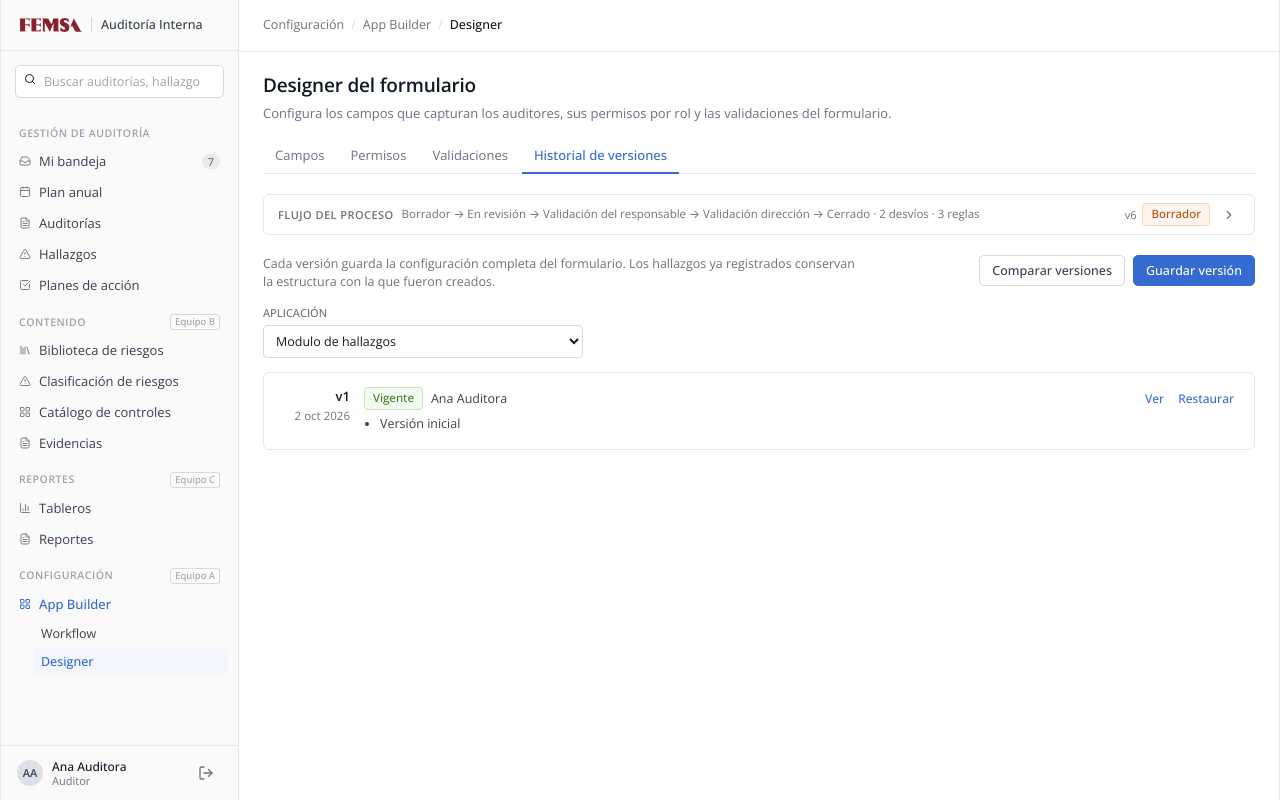
Test: Historial de versiones (US11) › guarda la configuración actual como un borrador nuevo
The width and height of the screenshot is (1280, 800).
Expected: the text "v1" reads "Vigente", [373, 390, 414, 405]
Click the button "Guardar versión" at (1194, 271), box [1133, 255, 1255, 286]
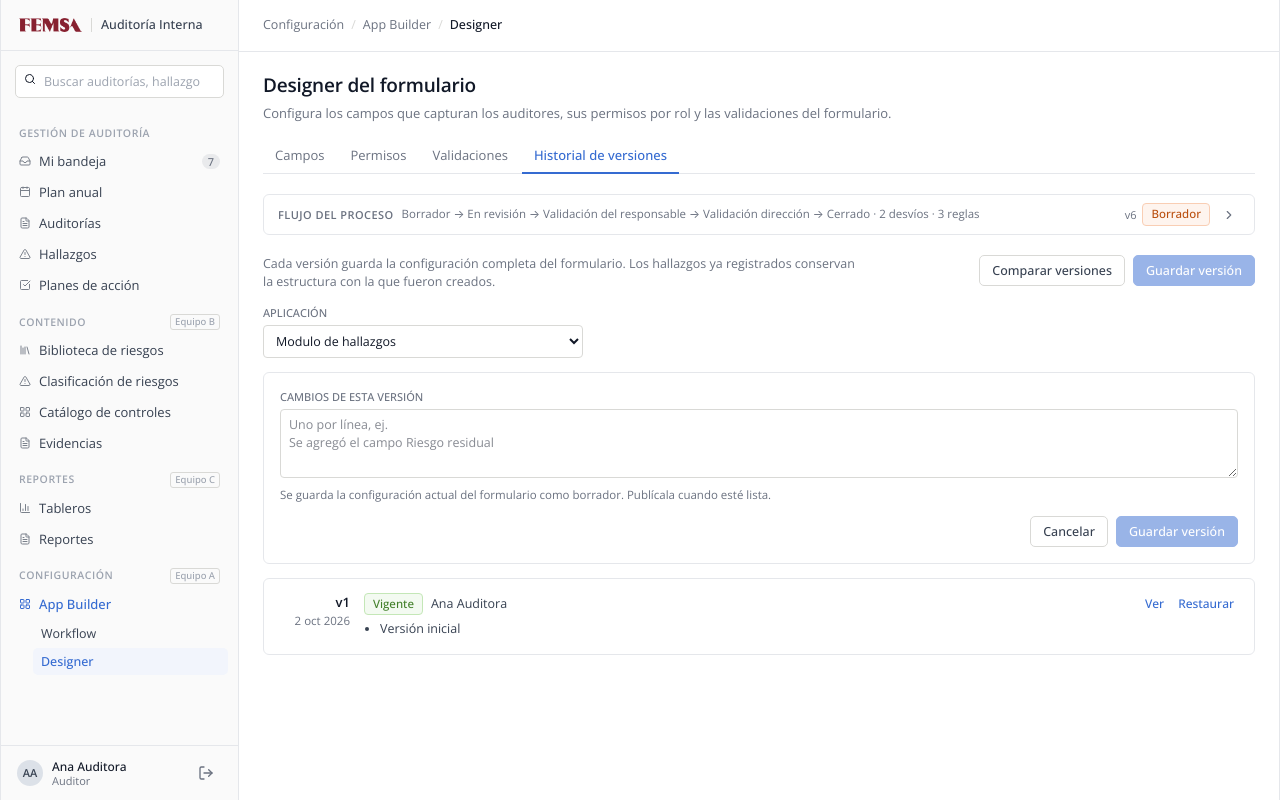
Type "Se agregó Titulo" into the text box labelled "Cambios de esta versión" at (759, 443), box [280, 409, 1238, 477]
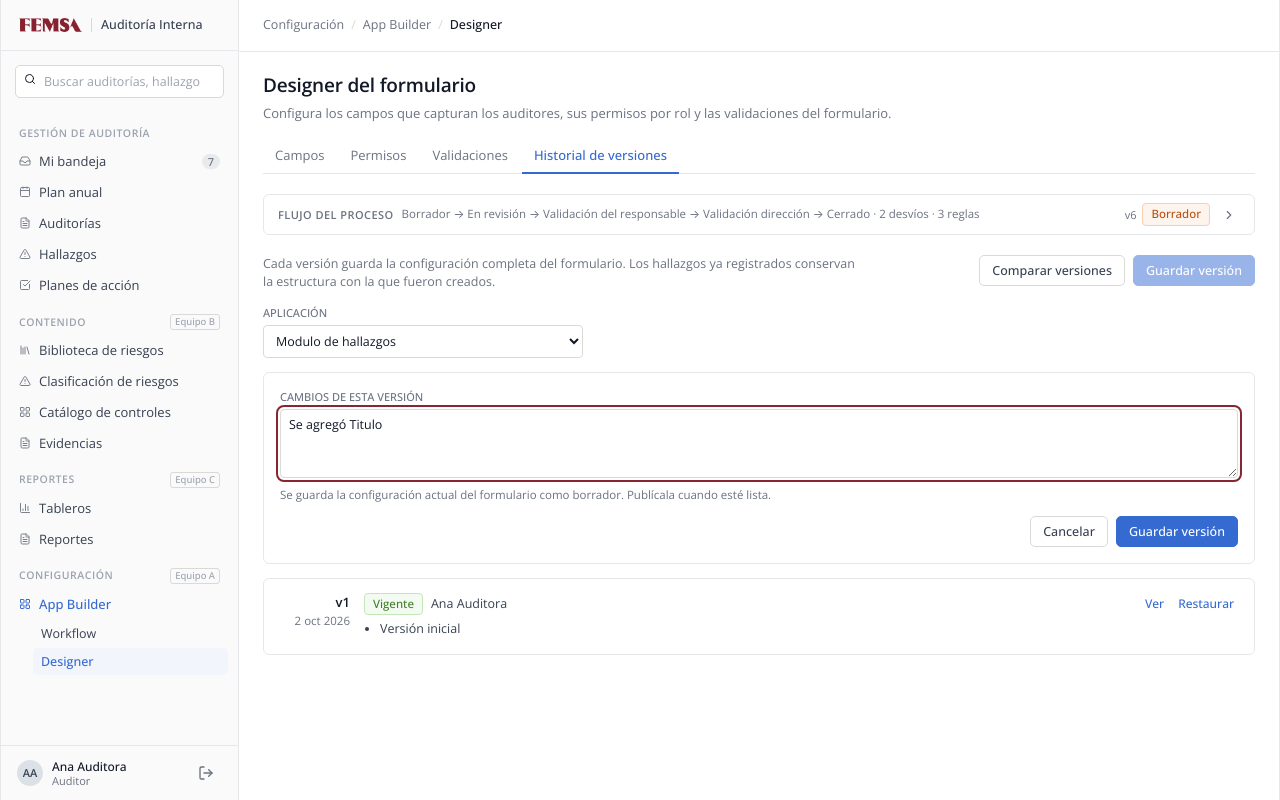
Click the 2nd button "Guardar versión" at (1177, 532), box [1116, 516, 1238, 547]
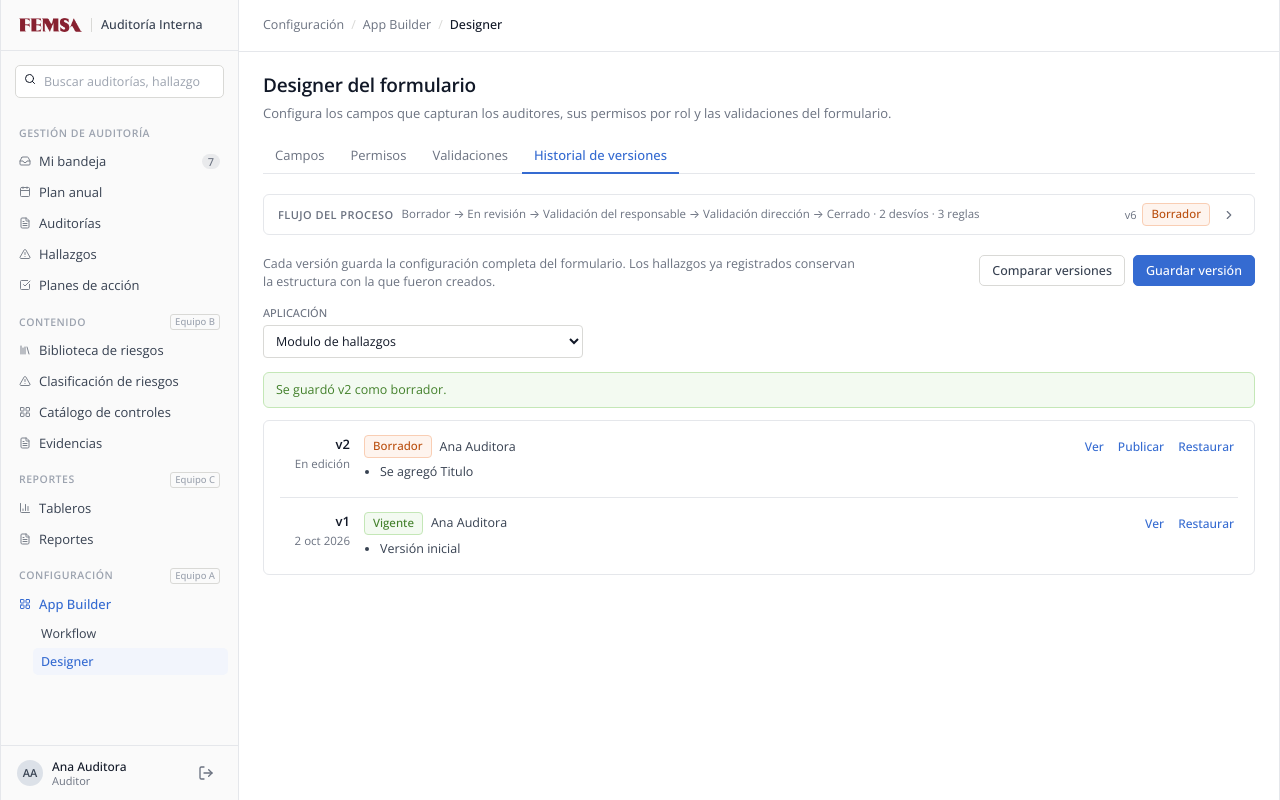
Now the message "Se guardó v2 como borrador." is shown, box [263, 372, 1255, 408]
Now the text "v2" below "Se guardó v2 como borrador." is shown, box [373, 438, 423, 453]
Now the list item "v2" reads "Se agregó Titulo", box [380, 463, 473, 480]
